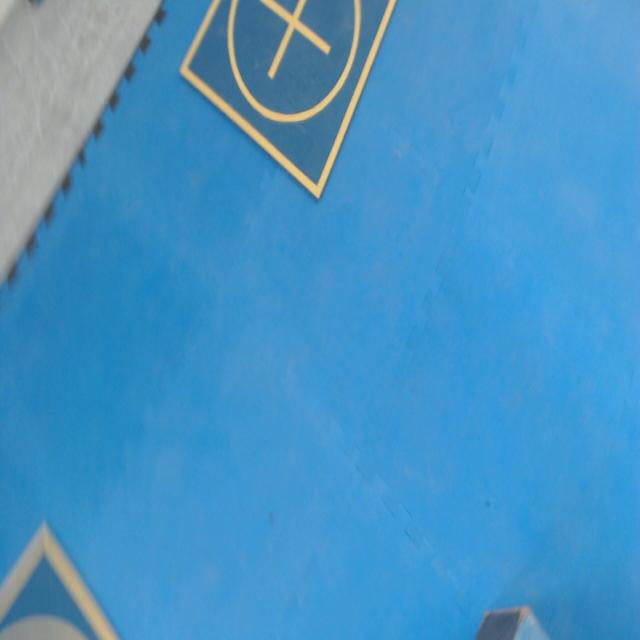base_pouso: (180, 0, 398, 200), (0, 521, 126, 639)
